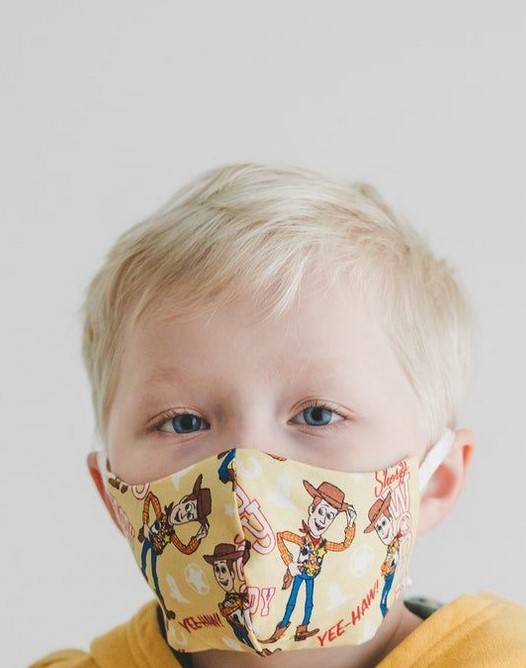face_with_mask: (90, 195, 477, 656)
